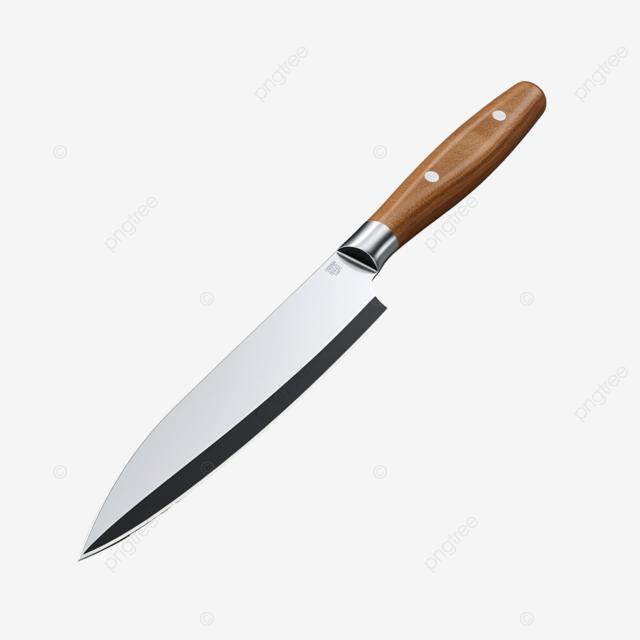Knife: (78, 79, 546, 560)
